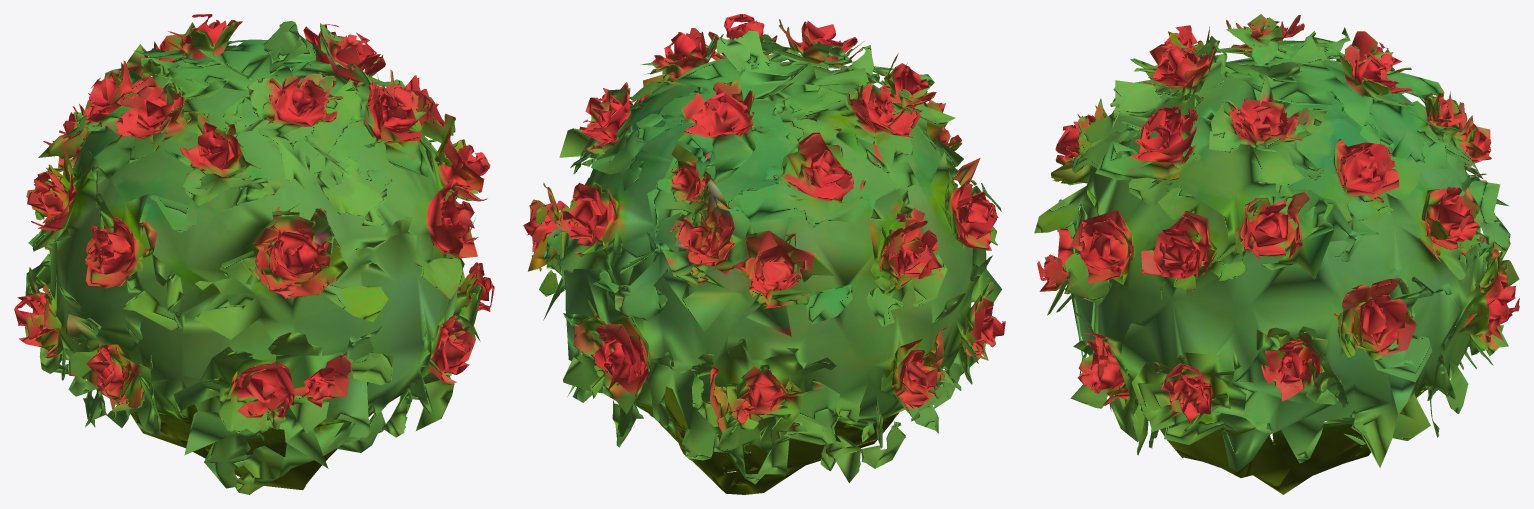
Rendered from rose_bush_red.glb.
3 renders of one model, left to right at view 1: azimuth 30°, elevation 25°; view 2: azimuth 150°, elevation 25°; view 3: azimuth 270°, elevation 25°, orthographic.
Parts seen in each view (by area): view 1: tripo_node_33268122-14cc-4437-89e8-2dd805381a43; view 2: tripo_node_33268122-14cc-4437-89e8-2dd805381a43; view 3: tripo_node_33268122-14cc-4437-89e8-2dd805381a43.
Boxes of the visible parts, <box> form: tripo_node_33268122-14cc-4437-89e8-2dd805381a43: <box>14,14,494,494</box>; tripo_node_33268122-14cc-4437-89e8-2dd805381a43: <box>523,14,1005,494</box>; tripo_node_33268122-14cc-4437-89e8-2dd805381a43: <box>1034,14,1519,494</box>.
Size of the model in its own units: 0.9763 by 0.9454 by 0.9942.
1 material, 1 textured.
